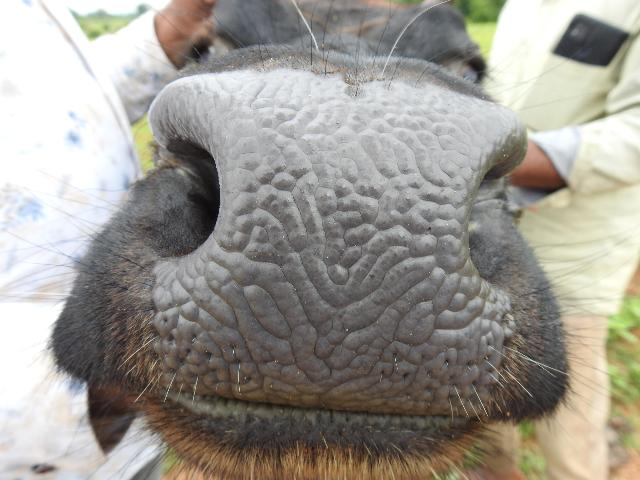Muzzle: (182, 79, 484, 413)
